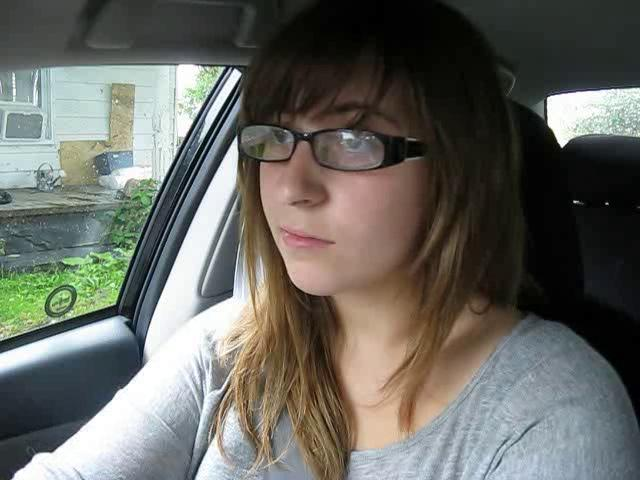no_yawn: (259, 216, 350, 264)
open_eyeL: (251, 120, 300, 160)
open_eyeR: (314, 119, 397, 169)
